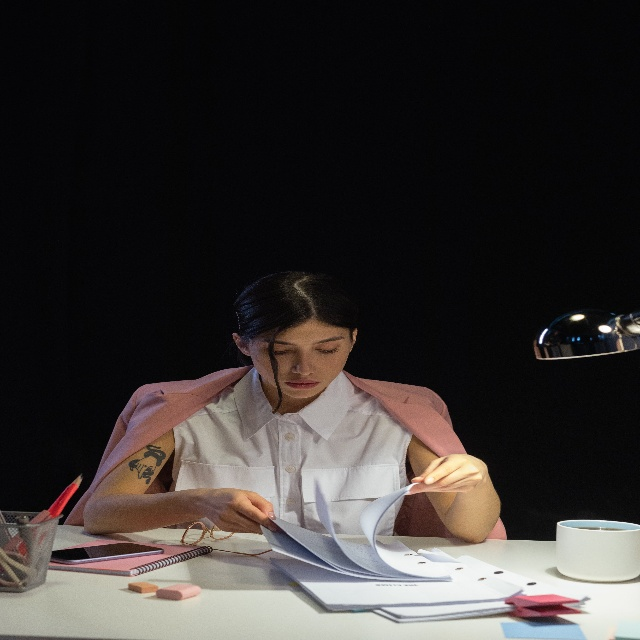Gafas: (180, 520, 272, 556)
Sin_guantes: (409, 453, 488, 493), (208, 488, 277, 533)
